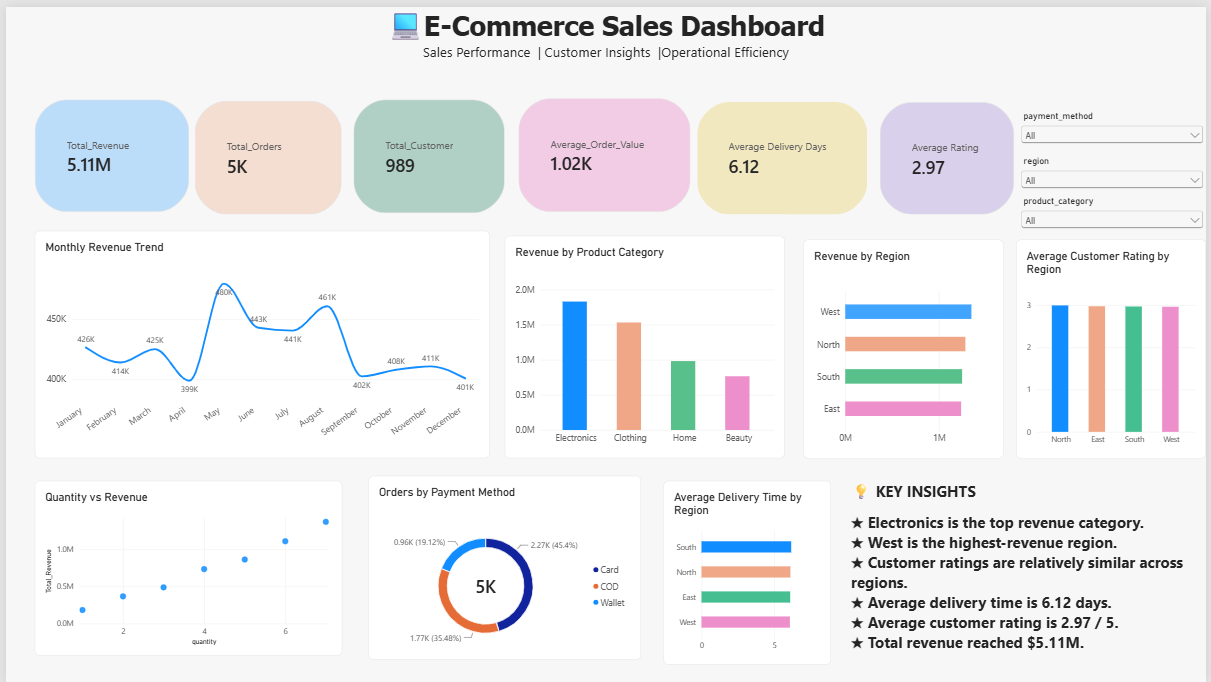

This screenshot's page, from the dashboard's own definition file:
{"tool":"powerbi","page":{"name":"Page 1","canvas":[1920,1080],"ordinal":0},"visuals":[{"type":"cardVisual","fields":{"Data":["ecommerce_sales_cleaned.Total_Revenue"]},"box":[45,147.5,247.5,180],"z":0},{"type":"cardVisual","fields":{"Data":["ecommerce_sales_cleaned.Total_Orders"]},"box":[302.5,150,235,182.5],"z":1000},{"type":"cardVisual","fields":{"Data":["ecommerce_sales_cleaned.Total_Customer"]},"box":[555,147.5,242.5,182.5],"z":2000},{"type":"cardVisual","fields":{"Data":["ecommerce_sales_cleaned.Average_Order_Value"]},"box":[820,145,275,182.5],"z":3000},{"type":"cardVisual","fields":{"Data":["ecommerce_sales_cleaned.Average Rating"]},"box":[1397.5,152.5,215,180],"z":4000},{"type":"lineChart","title":"Monthly Revenue Trend","fields":{"Category":["ecommerce_sales_cleaned.month.Variation.Date Hierarchy.Month","ecommerce_sales_cleaned.month.Variation.Date Hierarchy.Day"],"Y":["ecommerce_sales_cleaned.Total_Revenue"]},"box":[46,358,728,364],"z":5000},{"type":"clusteredColumnChart","title":"Revenue by Product Category","fields":{"Category":["ecommerce_sales_cleaned.product_category"],"Y":["ecommerce_sales_cleaned.Total_Revenue"]},"box":[798,366,448,356],"z":6000},{"type":"clusteredBarChart","title":"Revenue by Region","fields":{"Category":["ecommerce_sales_cleaned.region"],"Y":["ecommerce_sales_cleaned.Total_Revenue"]},"box":[1276,372,320,350],"z":7000},{"type":"scatterChart","title":"Quantity vs Revenue","fields":{"X":["ecommerce_sales_cleaned.quantity"],"Y":["ecommerce_sales_cleaned.Total_Revenue"]},"box":[46,758,491.7,280],"z":8000},{"type":"donutChart","title":"Orders by Payment Method","fields":{"Category":["ecommerce_sales_cleaned.payment_method"],"Y":["CountNonNull(ecommerce_sales_cleaned.order_id)"]},"box":[580,750,436,294],"z":9000},{"type":"clusteredColumnChart","title":"Average Customer Rating by Region","fields":{"Category":["ecommerce_sales_cleaned.region"],"Y":["ecommerce_sales_cleaned.Average Rating"]},"box":[1616,372,304,350],"z":10000},{"type":"clusteredBarChart","title":"Average Delivery Time by Region","fields":{"Category":["ecommerce_sales_cleaned.region"],"Y":["ecommerce_sales_cleaned.Average Delivery Days"]},"box":[1052,758,268,294],"z":11000},{"type":"textbox","box":[0,0,1920,110],"z":12000},{"type":"textbox","box":[1280,1052,280,28],"z":13000},{"type":"textbox","box":[1352,758,568,294],"z":14000},{"type":"cardVisual","fields":{"Data":["ecommerce_sales_cleaned.Average Delivery Days"]},"box":[1105,152.5,272.5,180],"z":15000},{"type":"slicer","fields":{"Values":["ecommerce_sales_cleaned.product_category"]},"box":[1620,302.5,300,70],"z":15001},{"type":"slicer","fields":{"Values":["ecommerce_sales_cleaned.region"]},"box":[1620,237.5,300,60],"z":15002},{"type":"slicer","fields":{"Values":["ecommerce_sales_cleaned.payment_method"]},"box":[1620,165,300,75],"z":15003}]}

Visuals, with their boxes in screenshot pixels (x1, y1, x2, y2), scaled from the page's 1920x1080 canvas onto the 1211x682 screenshot:
cardVisual - ecommerce_sales_cleaned.Total_Revenue: [x1=28, y1=93, x2=184, y2=207]
cardVisual - ecommerce_sales_cleaned.Total_Orders: [x1=191, y1=95, x2=339, y2=210]
cardVisual - ecommerce_sales_cleaned.Total_Customer: [x1=350, y1=93, x2=503, y2=208]
cardVisual - ecommerce_sales_cleaned.Average_Order_Value: [x1=517, y1=92, x2=691, y2=207]
cardVisual - ecommerce_sales_cleaned.Average Rating: [x1=881, y1=96, x2=1017, y2=210]
"Monthly Revenue Trend" lineChart: [x1=29, y1=226, x2=488, y2=456]
"Revenue by Product Category" clusteredColumnChart: [x1=503, y1=231, x2=786, y2=456]
"Revenue by Region" clusteredBarChart: [x1=805, y1=235, x2=1007, y2=456]
"Quantity vs Revenue" scatterChart: [x1=29, y1=479, x2=339, y2=655]
"Orders by Payment Method" donutChart: [x1=366, y1=474, x2=641, y2=659]
"Average Customer Rating by Region" clusteredColumnChart: [x1=1019, y1=235, x2=1210, y2=456]
"Average Delivery Time by Region" clusteredBarChart: [x1=664, y1=479, x2=833, y2=664]
textbox: [x1=0, y1=0, x2=1210, y2=69]
textbox: [x1=807, y1=664, x2=984, y2=681]
textbox: [x1=853, y1=479, x2=1210, y2=664]
cardVisual - ecommerce_sales_cleaned.Average Delivery Days: [x1=697, y1=96, x2=869, y2=210]
slicer - ecommerce_sales_cleaned.product_category: [x1=1022, y1=191, x2=1210, y2=235]
slicer - ecommerce_sales_cleaned.region: [x1=1022, y1=150, x2=1210, y2=188]
slicer - ecommerce_sales_cleaned.payment_method: [x1=1022, y1=104, x2=1210, y2=152]
